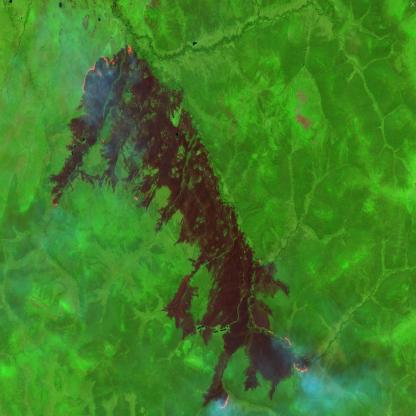fire: (80, 42, 134, 96), (264, 327, 310, 376), (214, 385, 233, 416), (48, 186, 68, 212)
